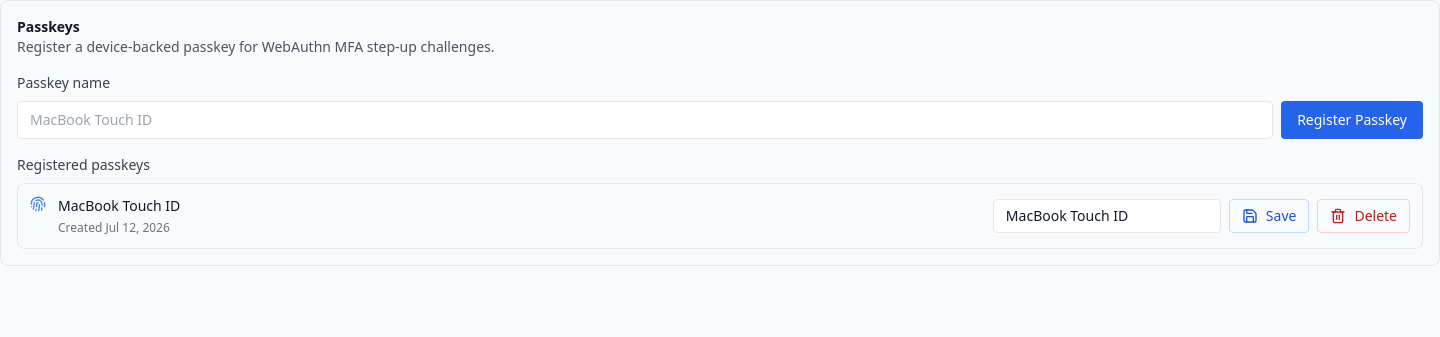
Passkeys component › renames a credential by credential id through the component owner
This screenshot has width=1440, height=337.
Replace the text in the field with test id "passkey-rename-input" with " Renamed work key " at (1107, 216), box [993, 199, 1221, 233]
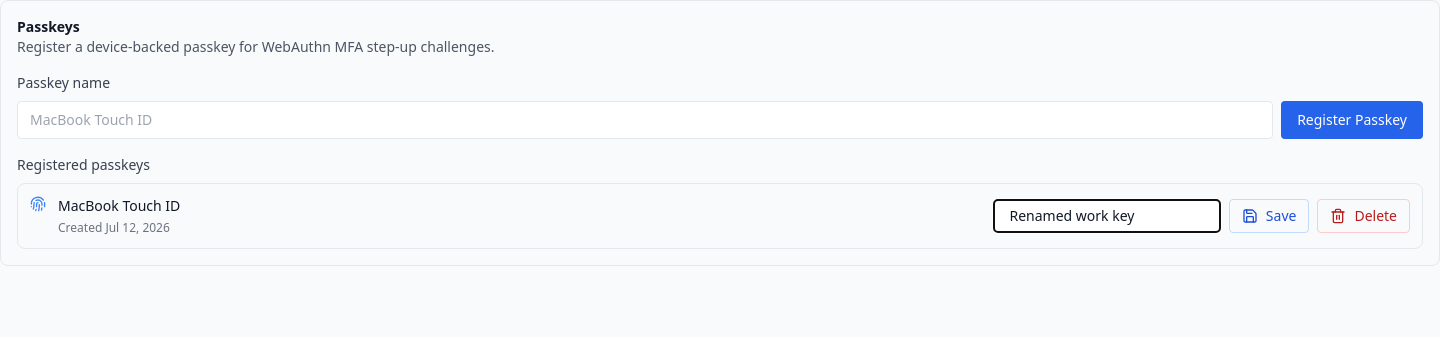
Click the button with test id "passkey-rename-button" at (1269, 216), box [1229, 199, 1310, 233]
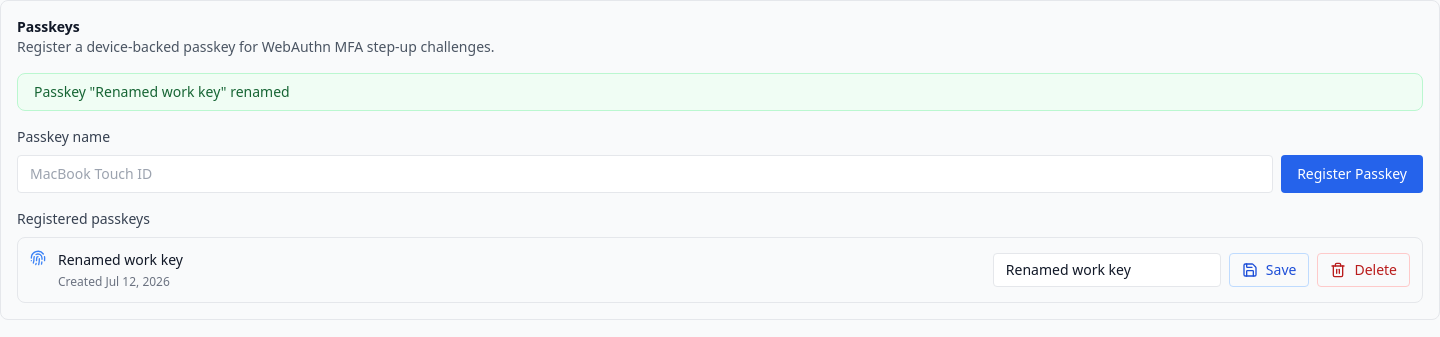
Expected: the text "Renamed work key" is shown, [58, 250, 183, 270]
